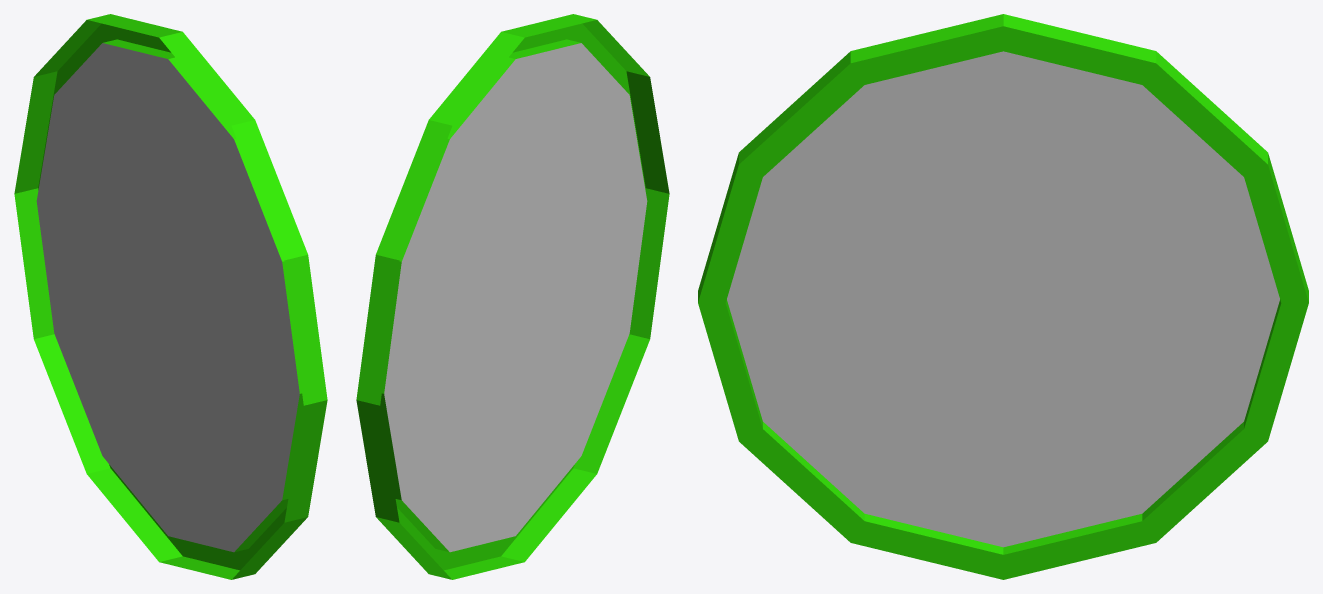
The model's file is Cuadro 2.fbx.
3 renders of one model, left to right at view 1: azimuth 30°, elevation 25°; view 2: azimuth 150°, elevation 25°; view 3: azimuth 270°, elevation 25°, orthographic. The views are drawn at different scales.
Parts seen in each view (by area): view 1: Cuadro 2; view 2: Cuadro 2; view 3: Cuadro 2.
Boxes of the visible parts, <box> form: Cuadro 2: <box>14,14,327,579</box>; Cuadro 2: <box>356,14,669,579</box>; Cuadro 2: <box>698,14,1308,579</box>.
Size of the model in its own units: 9.49 by 200 by 200.
